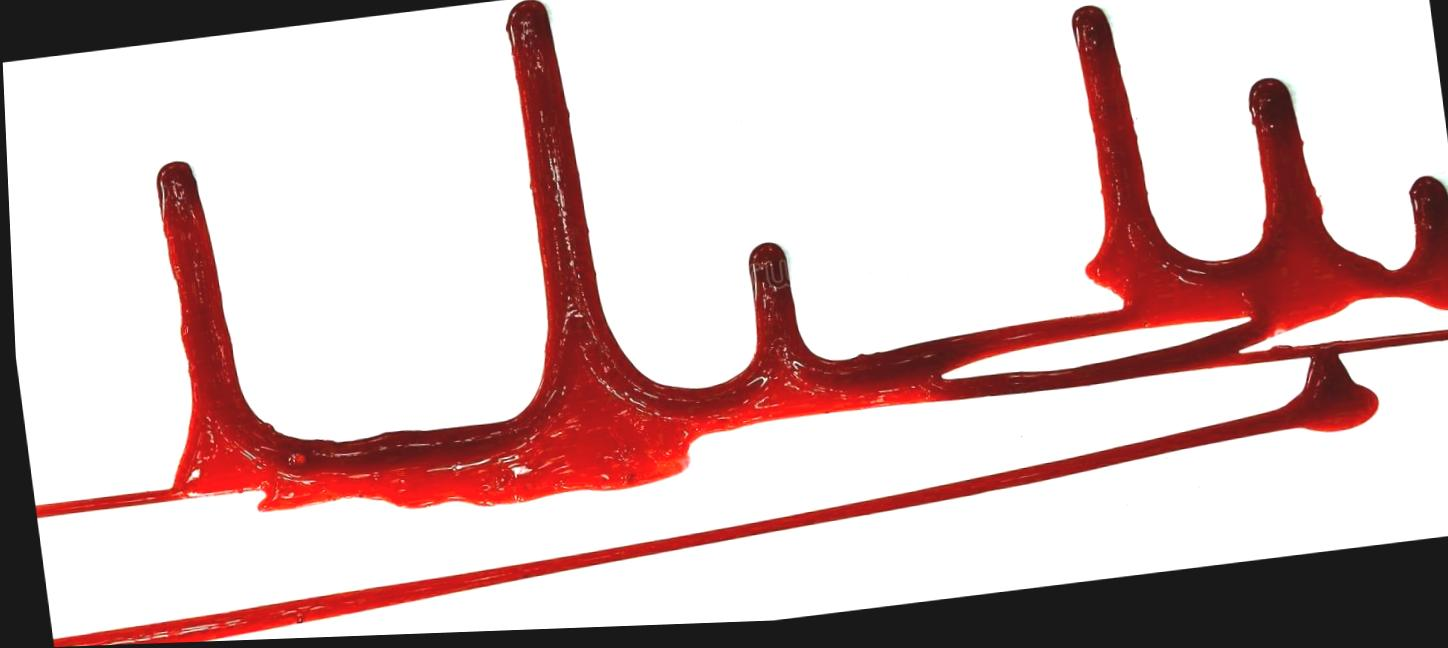Fire: (31, 3, 1448, 647)
